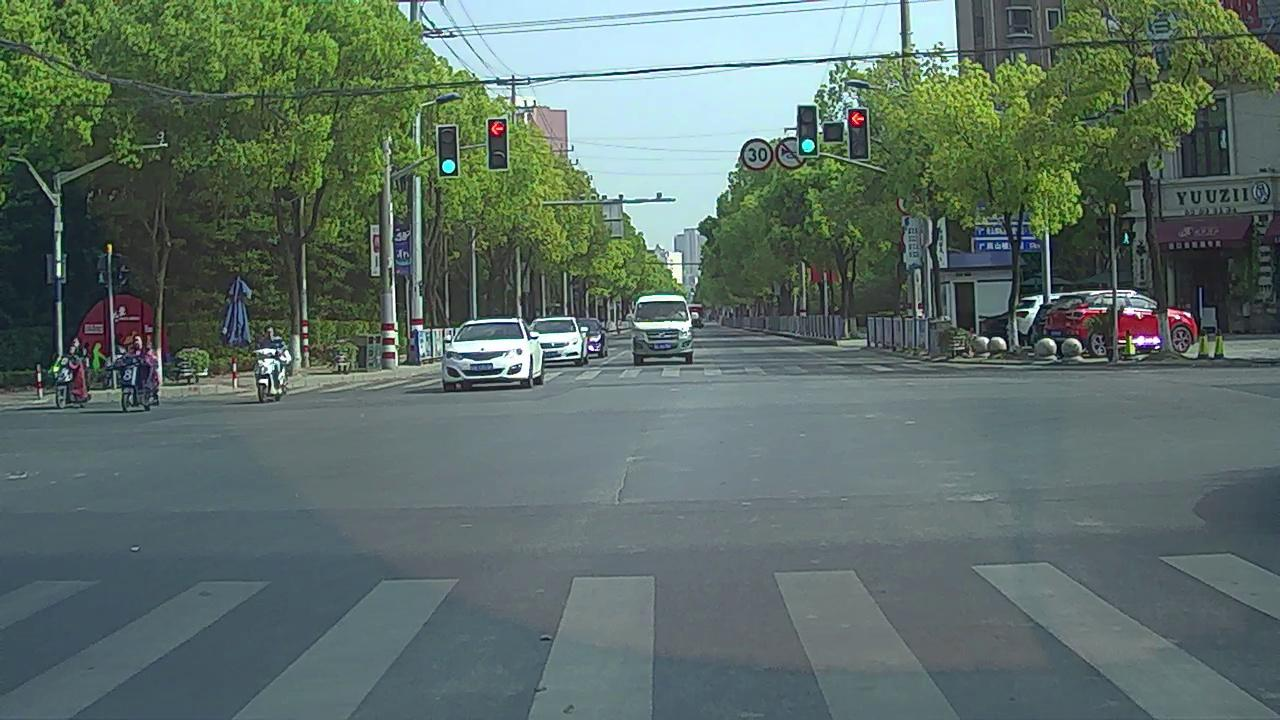traffic_light: (437, 126, 458, 180), (488, 118, 509, 171), (799, 105, 819, 157), (850, 108, 870, 160)
